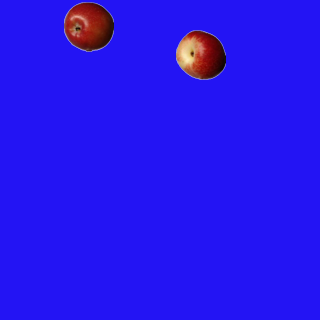Apple Braeburn: (63, 1, 113, 51)
Nectarine: (175, 29, 225, 79)
